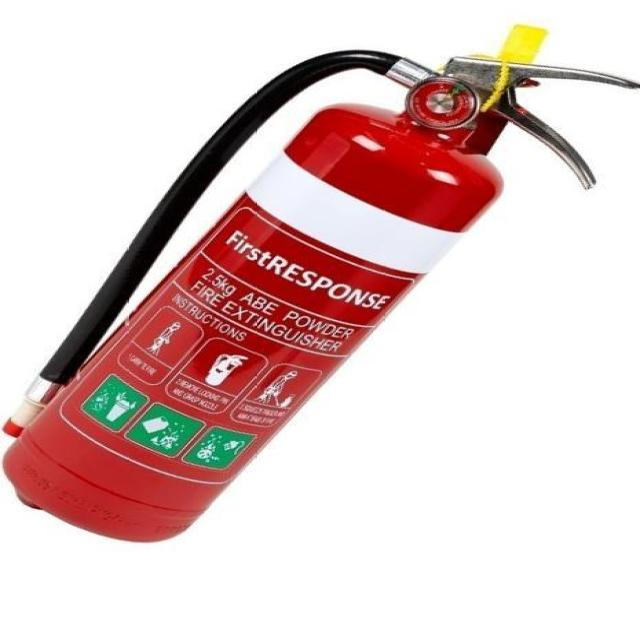fire_extinguisher: (0, 21, 639, 546)
